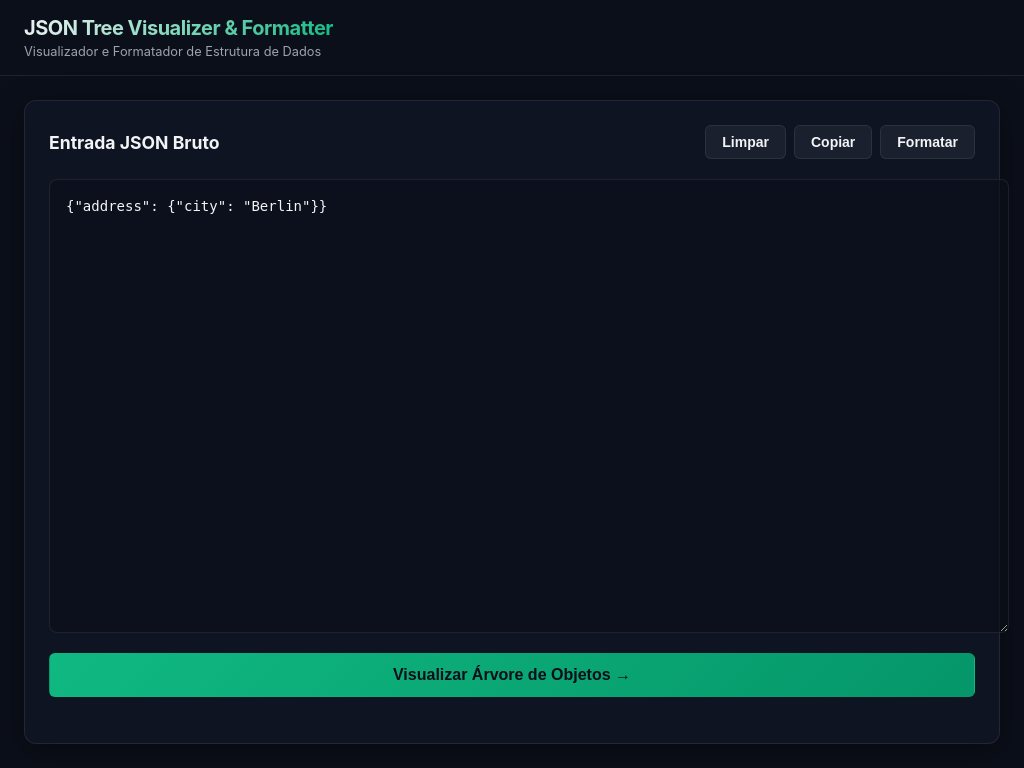
Test: JsonVisualizer Component › should transition to tree, expand/collapse nodes, and go back to editor
// Clica no botão para visualizar a árvore
Step 1. Click the button "Visualizar Árvore de Objetos →" → [512, 675], box [49, 653, 975, 697]
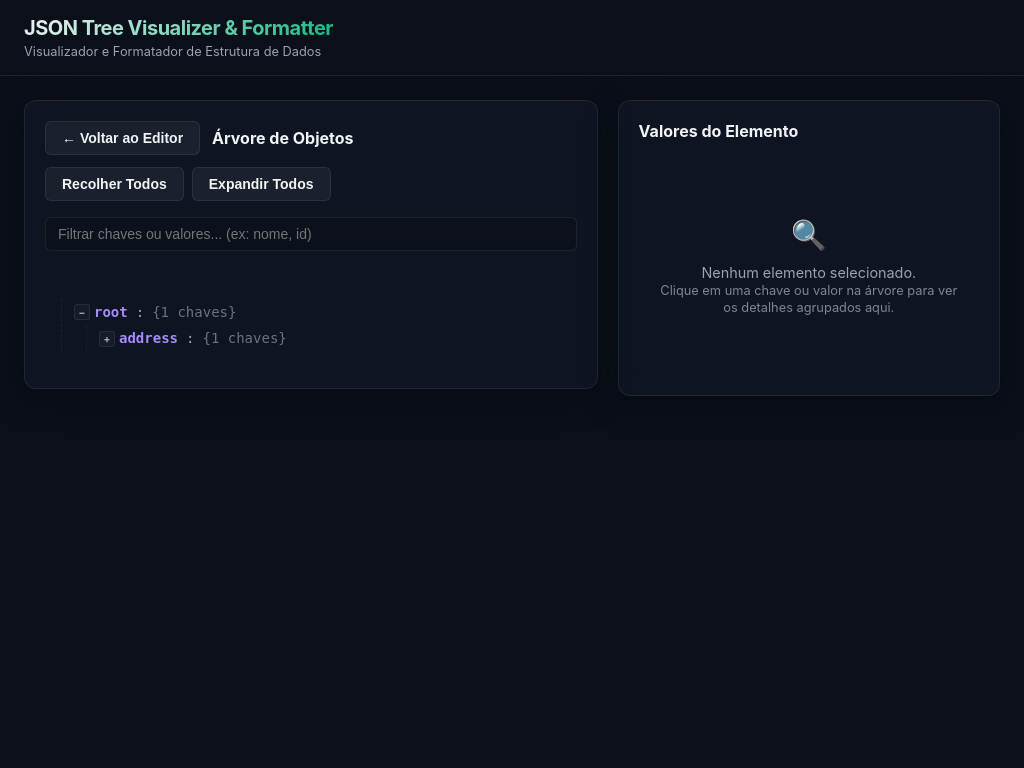
Expected: the text "city" is not shown
Result: the text "address" is shown at [119, 327, 178, 350]
// Clica no header do nó address para expandir (o botão ToggleBox '+' está presente)
Step 2. Click the text "+" → [107, 339], box [99, 331, 115, 347]
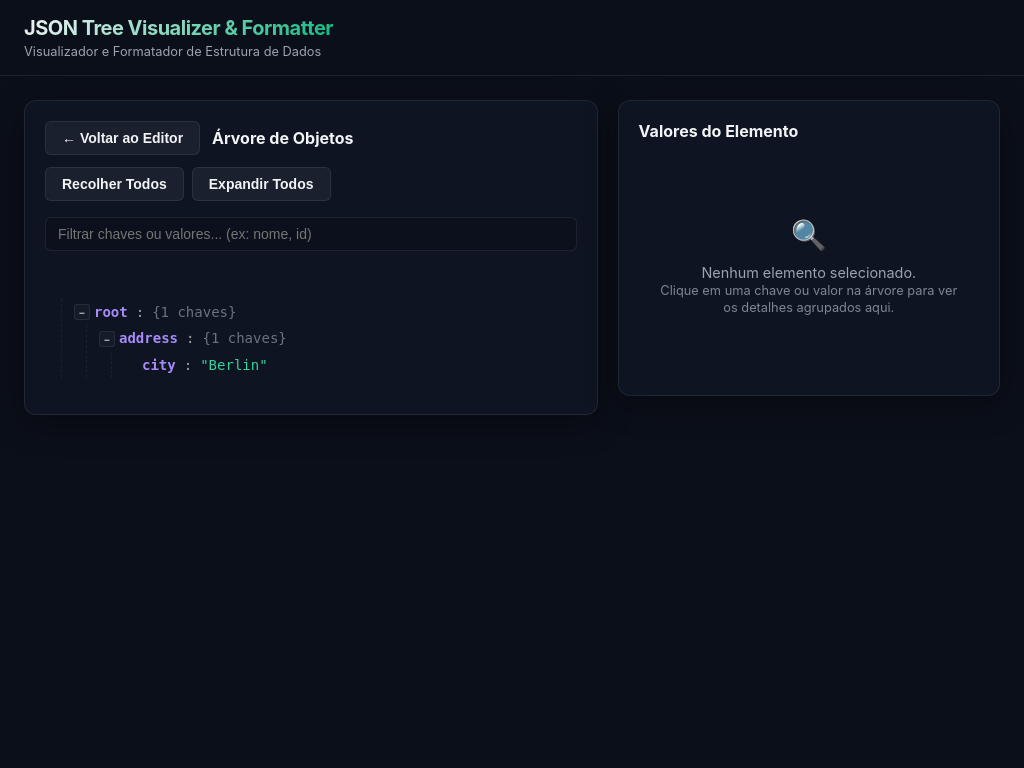
Result: the text "city" is shown at [142, 354, 176, 376]
Result: the text "\"Berlin\"" is shown at [200, 354, 268, 376]
// Clica no botão de voltar para retornar ao editor
Step 3. Click the button "← Voltar ao Editor" → [123, 138], box [45, 121, 200, 155]
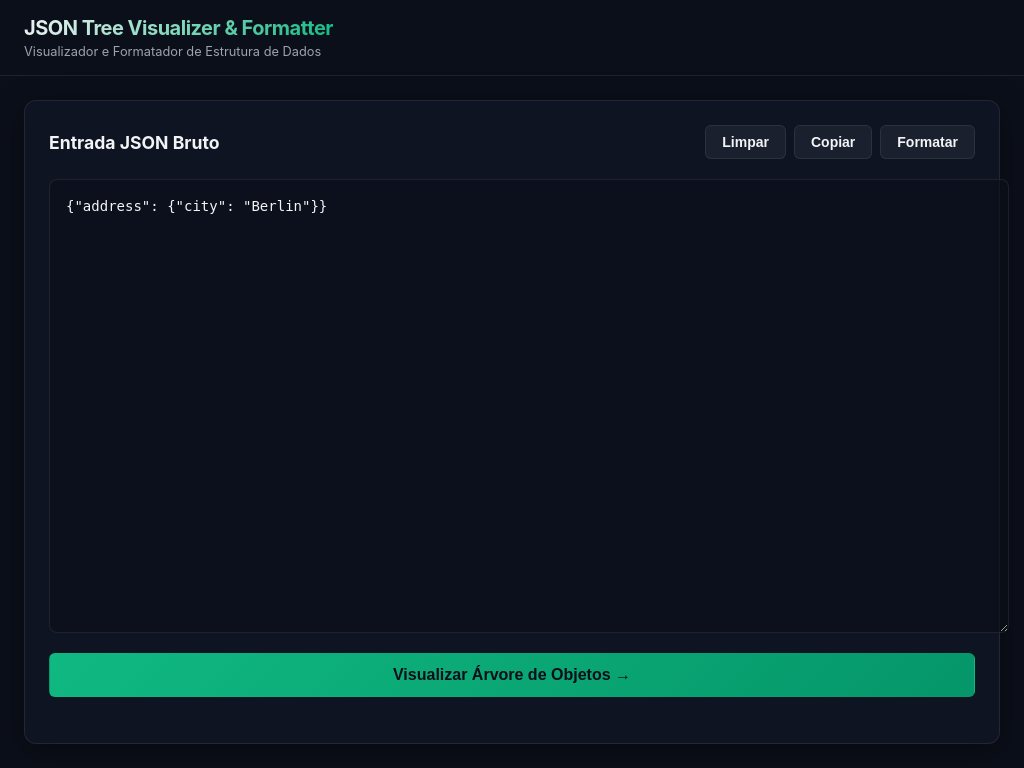
Result: the text box with placeholder "Cole seu JSON bruto" is shown at [49, 179, 1009, 633]
